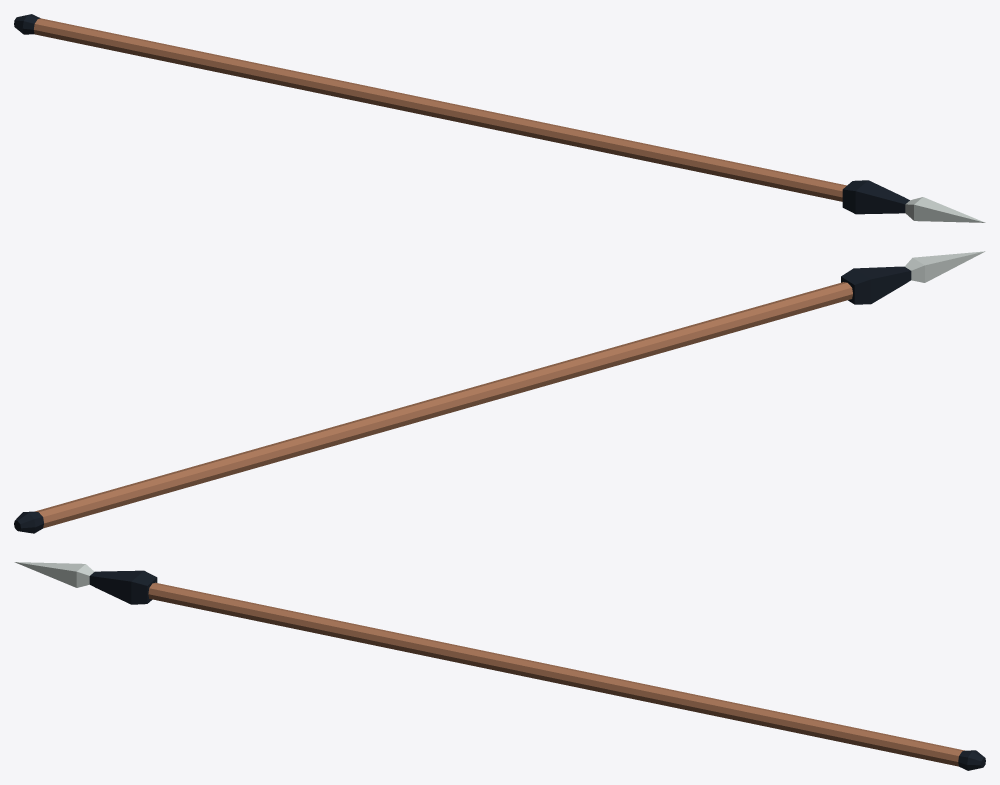
Rendered from spear.glb.
3 renders of one model, top to bottom at view 1: azimuth 90°, elevation 25°; view 2: azimuth 150°, elevation 25°; view 3: azimuth 270°, elevation 25°, orthographic. The views are drawn at different scales.
Visible parts, largest first — view 1: spearStick, spearHolder; view 2: spearStick, spearHolder; view 3: spearStick, spearHolder.
Part boxes in pixels (x1,y1,x2,y2): spearStick: (14,14,846,201); spearHolder: (842,180,985,222); spearStick: (14,282,852,533); spearHolder: (841,251,985,304); spearStick: (148,582,985,770); spearHolder: (14,562,157,604).
Size of the model in its own units: 1.8 by 0.0959 by 3.65.
